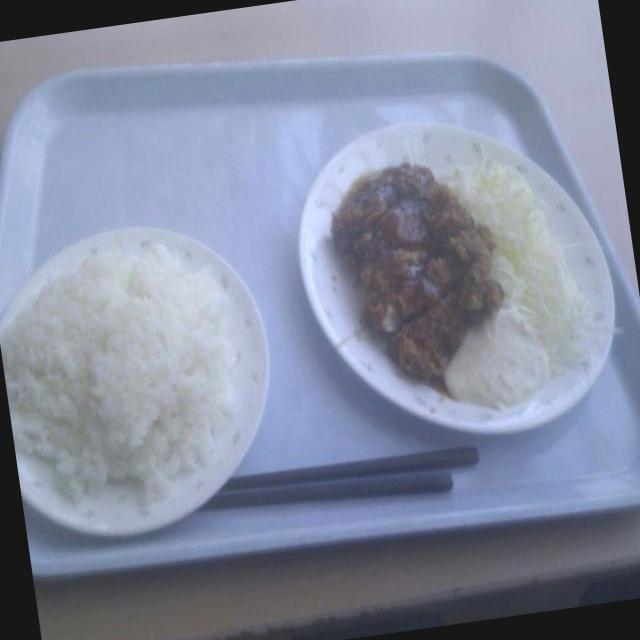Rice: (0, 227, 262, 511)
